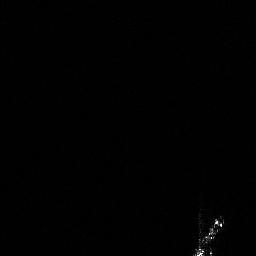ship: (188, 211, 228, 256)
